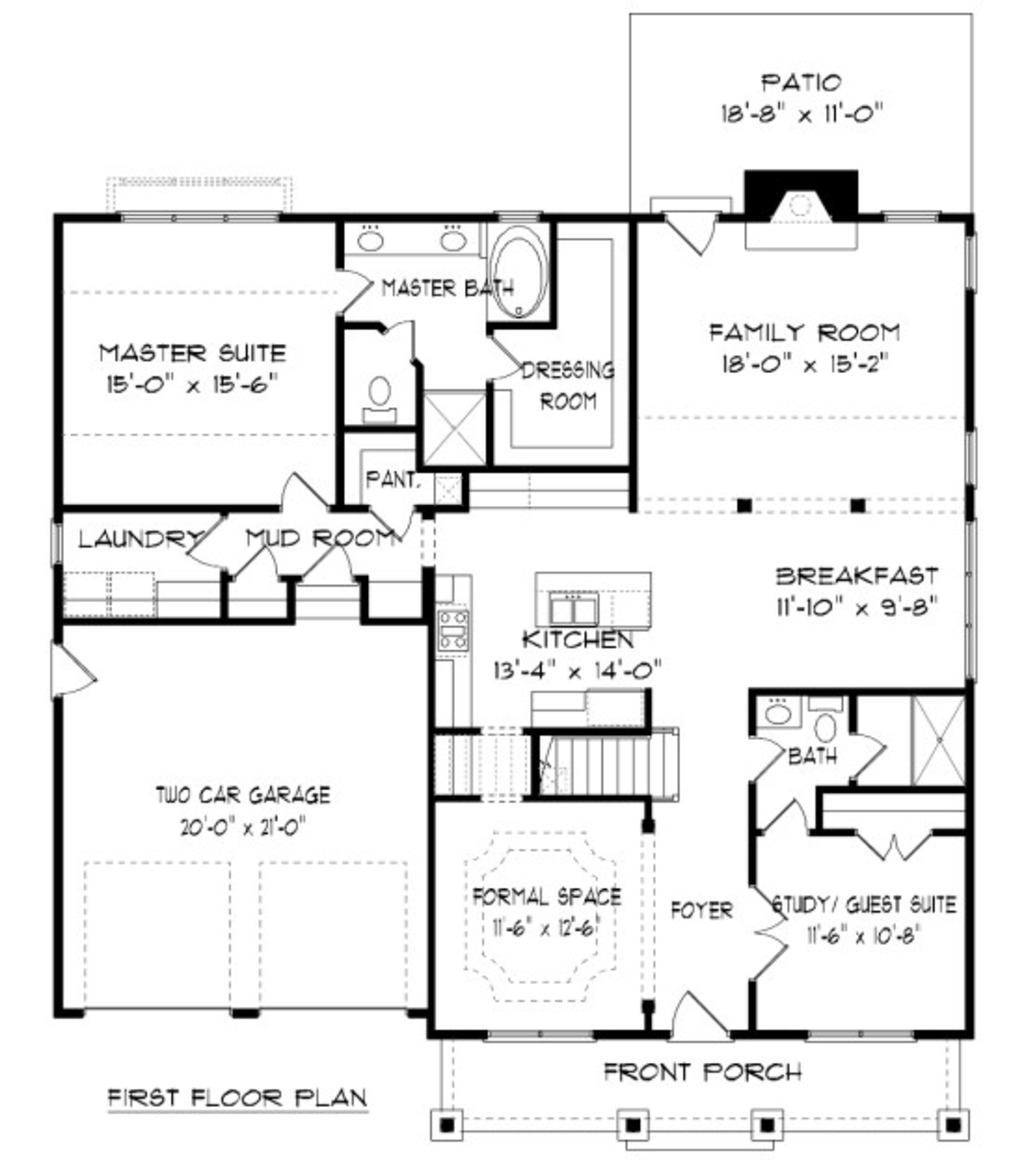door: (741, 885, 798, 992), (45, 630, 107, 714), (672, 988, 741, 1054), (856, 817, 932, 872), (479, 325, 543, 388), (656, 206, 721, 261), (267, 470, 338, 519), (368, 497, 425, 555), (848, 732, 899, 795), (187, 510, 236, 572), (739, 734, 790, 790), (761, 801, 825, 845), (296, 535, 352, 585), (332, 261, 374, 315), (385, 314, 430, 361), (243, 545, 288, 581)
kitchen_bar: (532, 554, 679, 655)
large_sink: (361, 374, 414, 426), (807, 695, 854, 750)
small_sink: (325, 203, 488, 275), (752, 694, 803, 734)
stairs: (434, 732, 692, 823)
tub: (483, 210, 552, 334)
twin_sink: (547, 579, 625, 632)
window: (118, 195, 287, 237), (867, 192, 948, 237), (959, 525, 981, 679), (481, 1025, 610, 1046), (798, 1025, 919, 1046), (963, 430, 985, 490), (958, 230, 976, 290)
